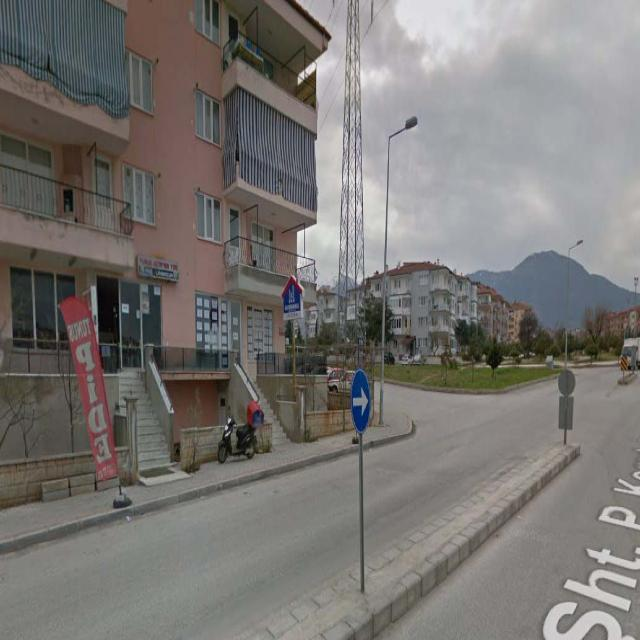sag: (351, 371, 371, 432)
